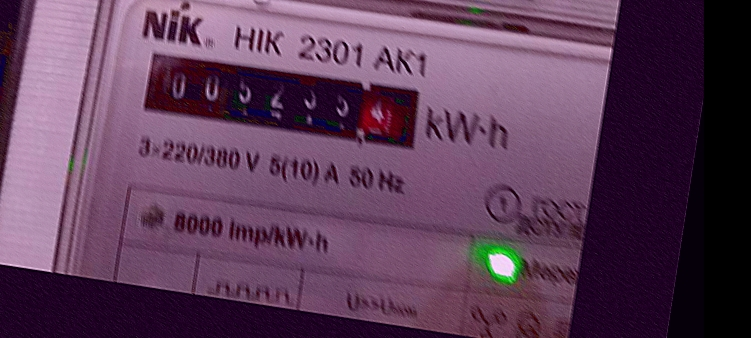0: (201, 67, 226, 103), (169, 66, 191, 100)
2: (266, 74, 292, 111)
3: (298, 77, 327, 114)
4: (366, 88, 393, 127)
5: (332, 81, 359, 120), (235, 71, 259, 106)
screen: (126, 32, 438, 164)
